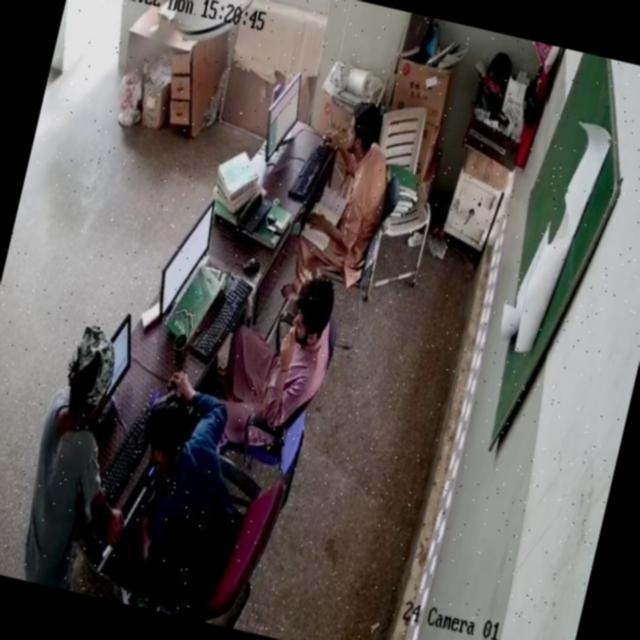person: (107, 369, 263, 590), (10, 322, 126, 590), (222, 262, 346, 436), (294, 91, 399, 293)
